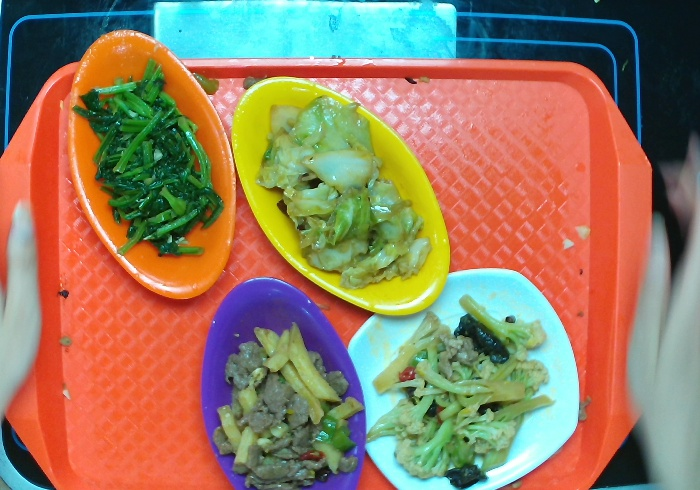RJxy-Fen_Hong_Tuo_Yuan: (197, 273, 372, 490)
RJxy-Huang_Se_Tuo_Yuan: (226, 71, 456, 322)
RJxy-Ju_Huang_Tuo_Yuan: (62, 22, 240, 302)
RJxy-Si_Fang_Die: (339, 265, 583, 490)
